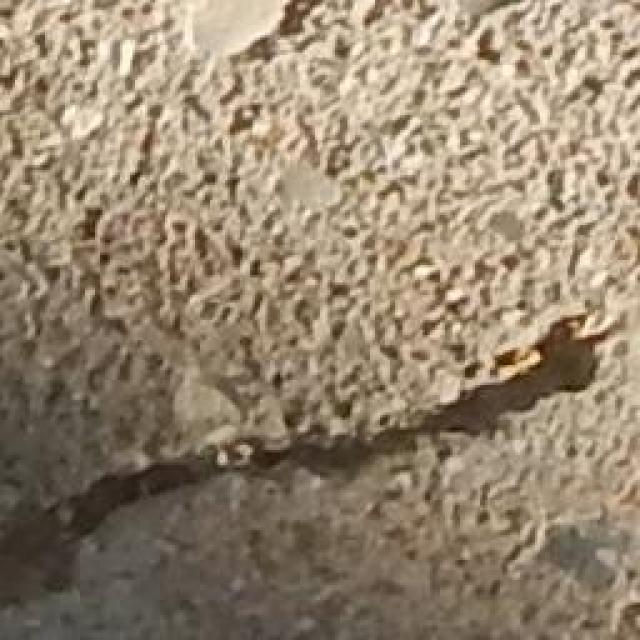concrete-crack: (0, 309, 619, 637)
